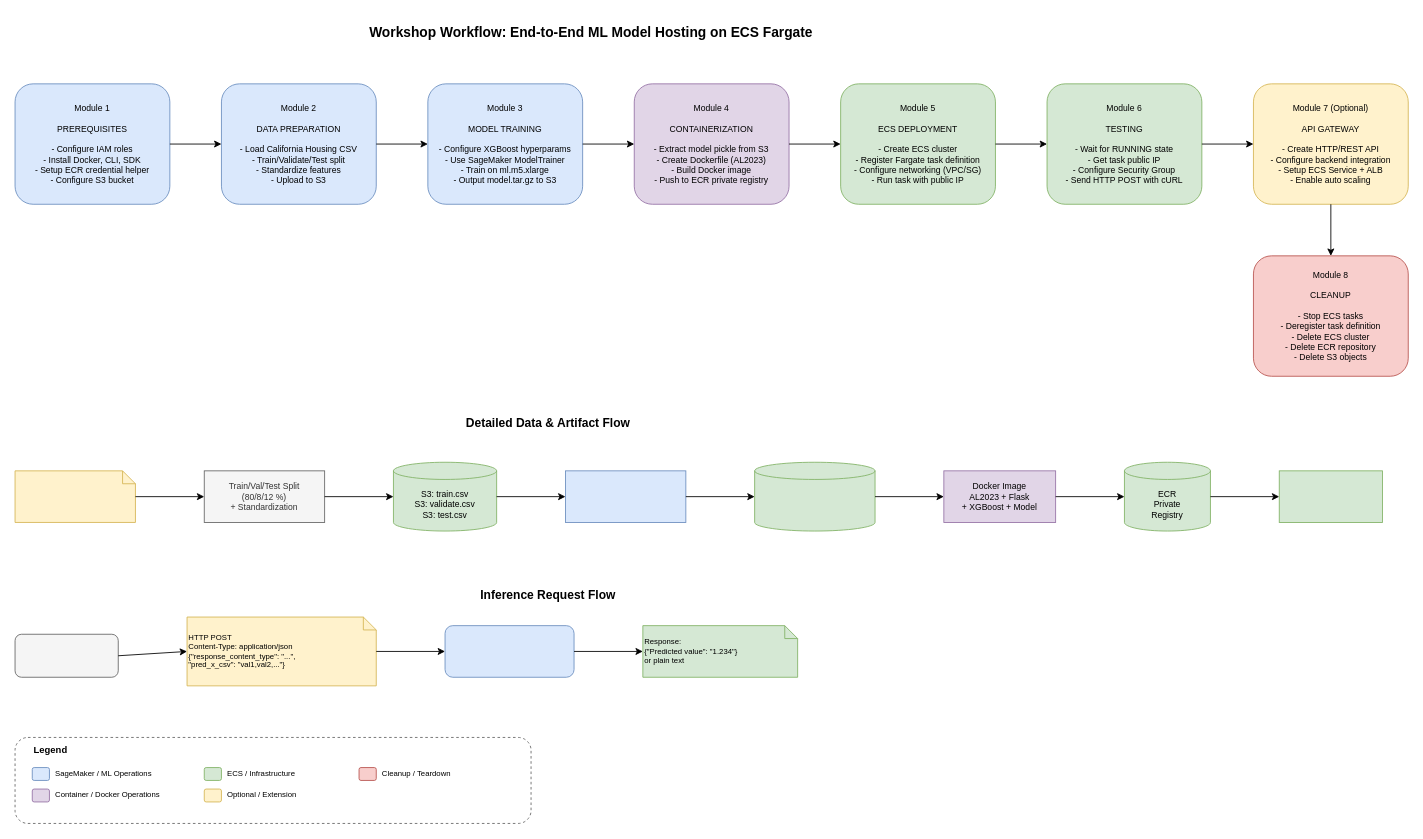
Image size: 1423x839. Some labels were removed from this diagram. The shapes that lost their labels are listed below. From the top down, each one's centre as x and y in pixels, then its label:
(74,496): california_housing.csv (20,640 records)
(625,496): SageMaker Training XGBoost 1.2 (ml.m5.xlarge)
(814,496): S3: model.tar.gz contains xgboost-model (pickle)
(1330,496): ECS Fargate Task (Public IP:80)
(66,655): Client / cURL
(509,651): Flask App (parse request > XGBoost predict > format response)
